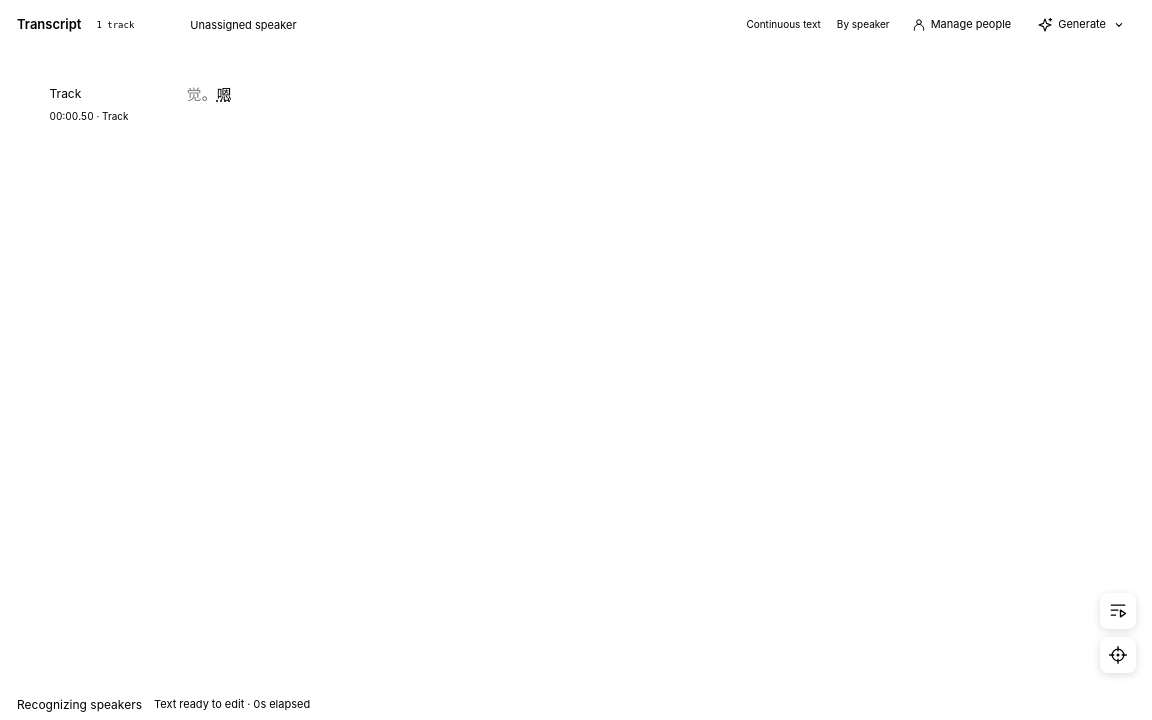
Test: canonical transcript editability › keeps pending text visible when identified speakers are hidden
expect the text box labelled "觉" is shown: met, box [186,82,202,107]
expect the text "All speakers hidden" is not shown: met
Click the button with aria-label "Show Unassigned speaker" at (236, 24), box [170,12,302,36]
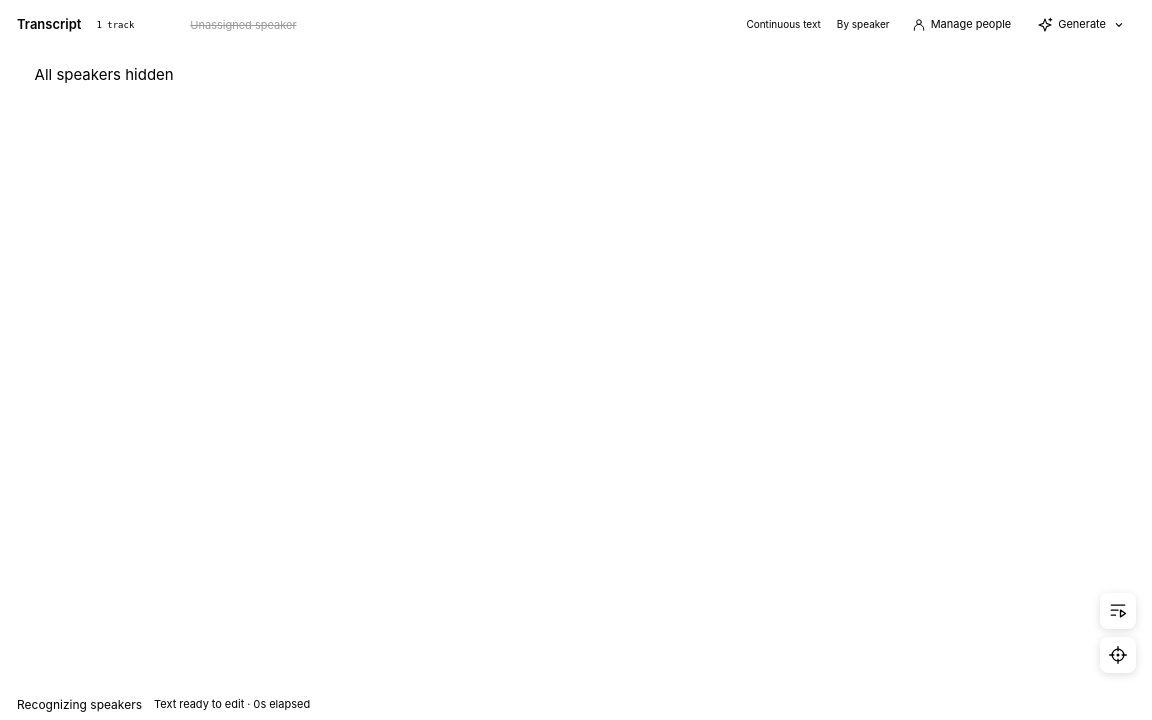
expect the text box "All speakers hidden" is shown: met, box [34,65,174,84]
